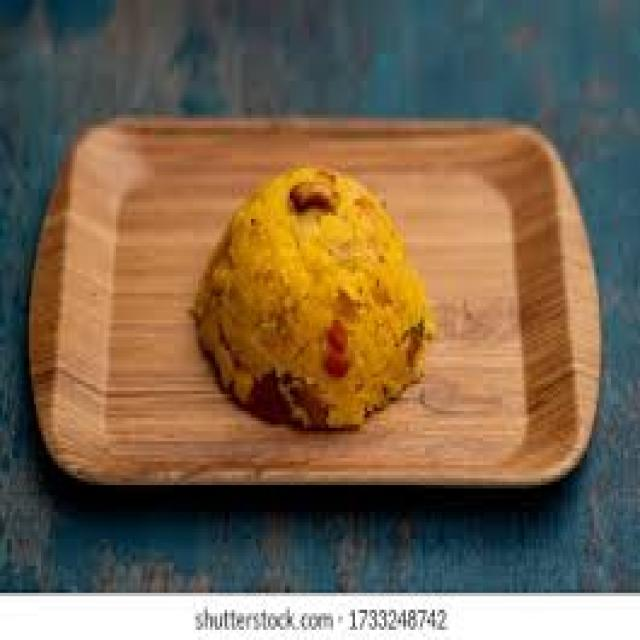POHA: (193, 168, 423, 424)
